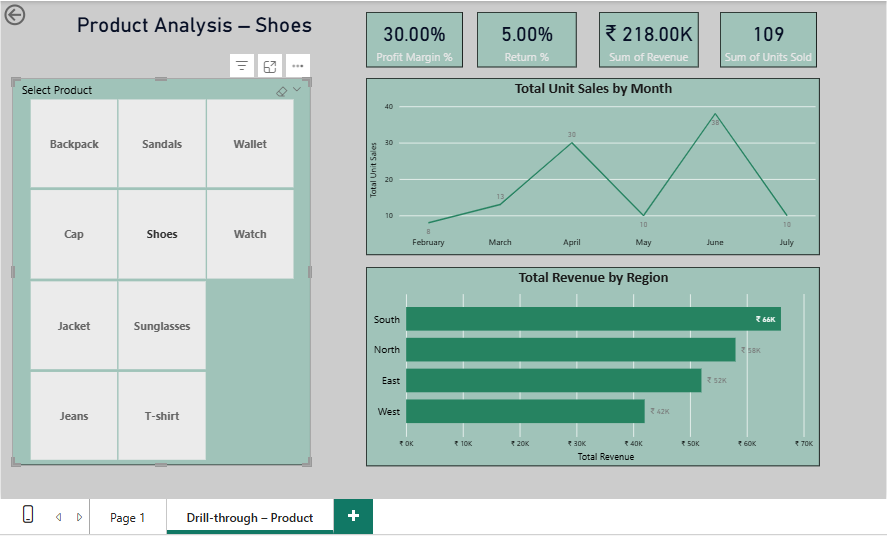

What the dashboard file says about the page in this screenshot:
{"tool":"powerbi","page":{"name":"Drill-through – Product","canvas":[1280,720],"ordinal":1},"visuals":[{"type":"actionButton","box":[0,0,100,40],"z":0},{"type":"card","fields":{"Values":["Sum(Sheet1.Revenue)"]},"box":[864,16,144,80],"z":1000},{"type":"card","fields":{"Values":["Sum(Sheet1.Units Sold)"]},"box":[1040,16,140,80],"z":2000},{"type":"card","fields":{"Values":["Sheet1.Return %"]},"box":[688,16,144,80],"z":3000},{"type":"card","fields":{"Values":["Sheet1.Profit Margin %"]},"box":[528,16,140,80],"z":4000},{"type":"lineChart","title":"Total Unit Sales by Month","fields":{"Category":["Sheet1.Order Date.Variation.Date Hierarchy.Month"],"Y":["Sheet1.Total Unit Sales"]},"box":[528,112,656,256],"z":5000},{"type":"slicer","fields":{"Values":["Sheet1.Product"]},"box":[16,112,432,560],"z":6000},{"type":"clusteredBarChart","fields":{"Y":["Sheet1.Total Revenue"],"Category":["Sheet1.Region"]},"box":[528,384,656,288],"z":7000},{"type":"card","fields":{"Values":["Sheet1.Drillthrough Product Title"]},"box":[48,0,464,64],"z":8000}]}

Visuals, with their boxes on the page's 1280x720 design canvas (x1, y1, x2, y2). These are canvas units, not pixel positions in the 887x536 screenshot, which may show the page scaled, cropped or inside an application window:
actionButton: [0, 0, 100, 40]
card - Sum(Sheet1.Revenue): [864, 16, 1008, 96]
card - Sum(Sheet1.Units Sold): [1040, 16, 1180, 96]
card - Sheet1.Return %: [688, 16, 832, 96]
card - Sheet1.Profit Margin %: [528, 16, 668, 96]
"Total Unit Sales by Month" lineChart: [528, 112, 1184, 368]
slicer - Sheet1.Product: [16, 112, 448, 672]
clusteredBarChart - Sheet1.Total Revenue x Sheet1.Region: [528, 384, 1184, 672]
card - Sheet1.Drillthrough Product Title: [48, 0, 512, 64]
